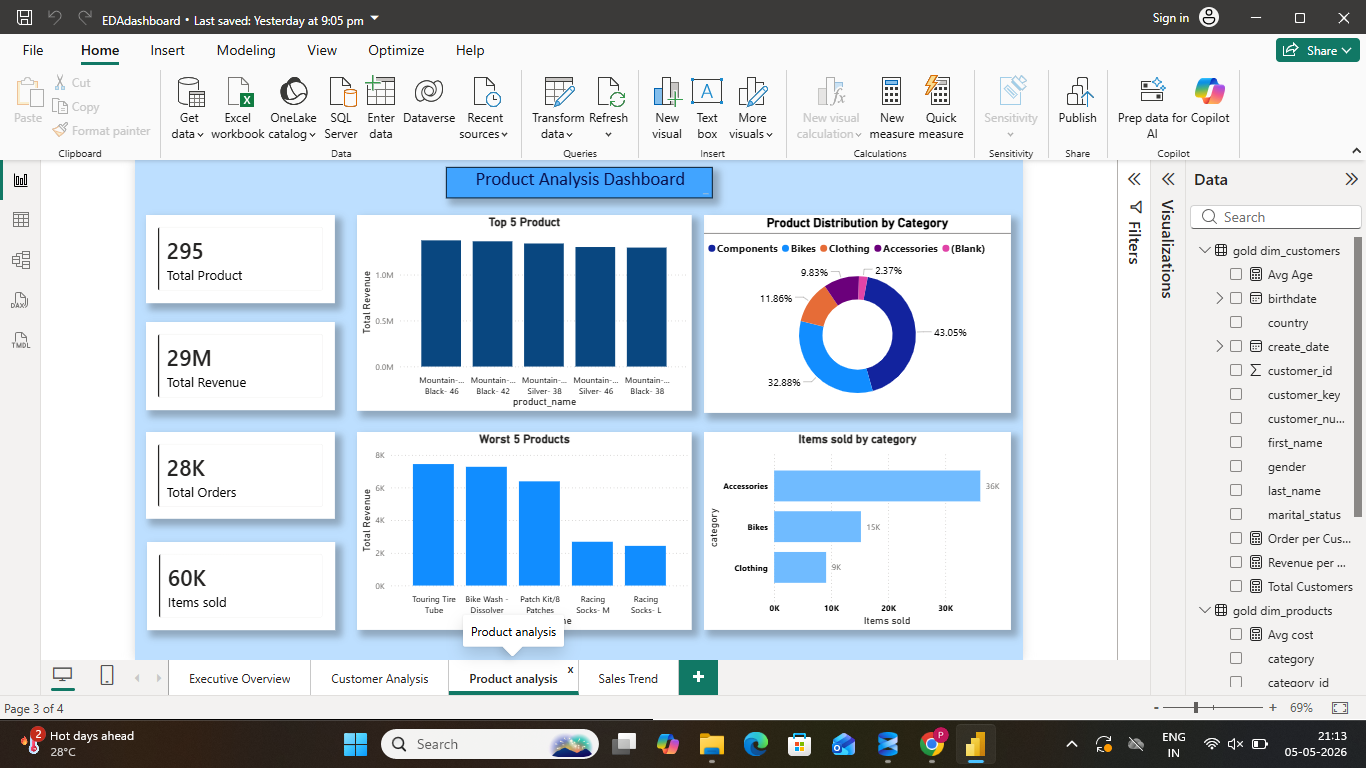

This screenshot's page, from the dashboard's own definition file:
{"tool":"powerbi","page":{"name":"Product analysis","canvas":[1280,720],"ordinal":2},"visuals":[{"type":"cardVisual","fields":{"Data":["gold fact_sales.Total Orders"]},"box":[15.8,391.7,272.2,125.3],"z":0},{"type":"cardVisual","fields":{"Data":["gold fact_sales.Total Revenue"]},"box":[15.8,233.3,272.2,126.7],"z":1000},{"type":"cardVisual","fields":{"Data":["gold dim_products.Total Product"]},"box":[15.8,79.2,272.2,126.7],"z":2000},{"type":"cardVisual","fields":{"Data":["gold fact_sales.Items sold"]},"box":[17.3,550.1,270.7,126.7],"z":3000},{"type":"textbox","title":"Product Analysis Dashboard","box":[447.8,10.1,384.5,44.6],"z":4000},{"type":"donutChart","title":"Product Distribution by Category","fields":{"Y":["CountNonNull(gold dim_products.product_key)"],"Category":["gold dim_products.category"]},"box":[819.4,79.2,442.1,285.1],"z":5000},{"type":"clusteredColumnChart","title":"Top 5 Product","fields":{"Category":["gold dim_products.product_name"],"Y":["gold fact_sales.Total Revenue"]},"box":[319.7,79.2,482.4,282.2],"z":6000},{"type":"clusteredColumnChart","title":"Worst 5 Products","fields":{"Category":["gold dim_products.product_name"],"Y":["gold fact_sales.Total Revenue"]},"box":[319.7,391.7,482.4,285.1],"z":7000},{"type":"clusteredBarChart","fields":{"Category":["gold dim_products.category"],"Y":["gold fact_sales.Items sold"]},"box":[819.4,391.7,442.1,285.1],"z":8000}]}

Visuals, with their boxes on the page's 1280x720 design canvas (x1, y1, x2, y2). These are canvas units, not pixel positions in the 1366x768 screenshot, which may show the page scaled, cropped or inside an application window:
cardVisual - gold fact_sales.Total Orders: [16,392,288,517]
cardVisual - gold fact_sales.Total Revenue: [16,233,288,360]
cardVisual - gold dim_products.Total Product: [16,79,288,206]
cardVisual - gold fact_sales.Items sold: [17,550,288,677]
"Product Analysis Dashboard" textbox: [448,10,832,55]
"Product Distribution by Category" donutChart: [819,79,1262,364]
"Top 5 Product" clusteredColumnChart: [320,79,802,361]
"Worst 5 Products" clusteredColumnChart: [320,392,802,677]
clusteredBarChart - gold dim_products.category x gold fact_sales.Items sold: [819,392,1262,677]
